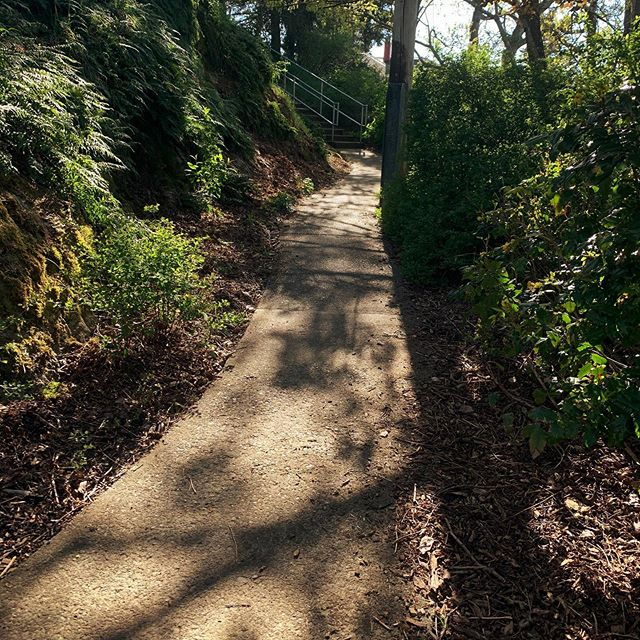vegetation: (394, 1, 640, 640), (1, 6, 284, 429)
